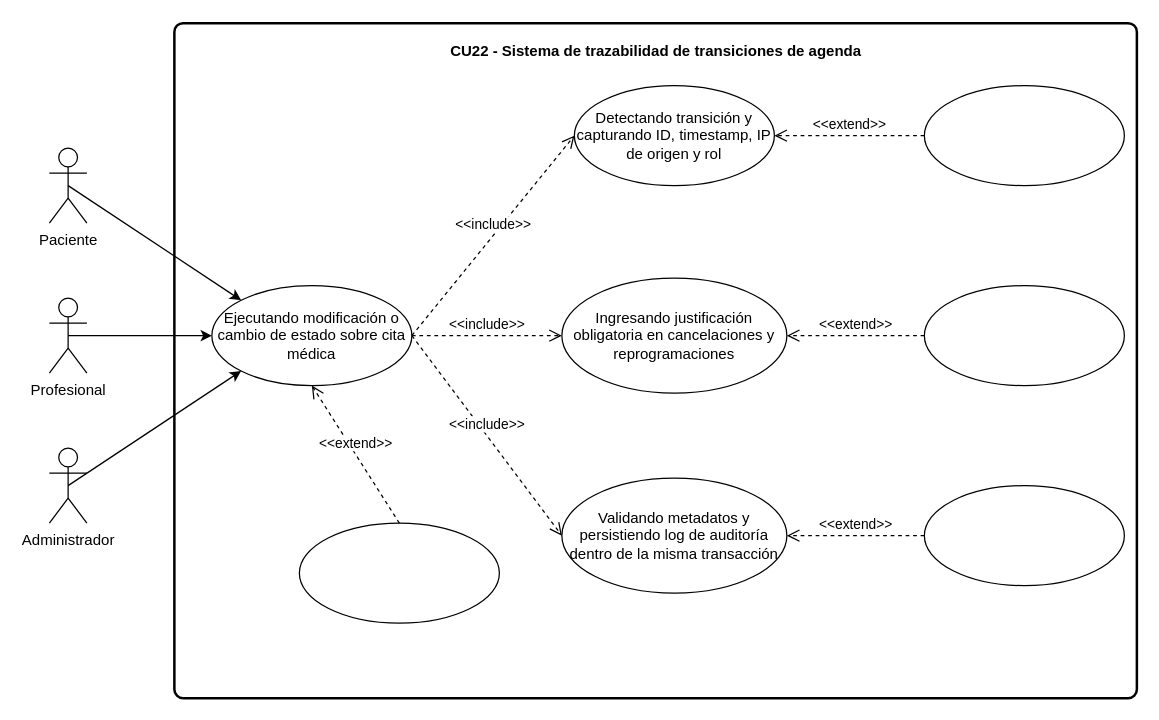
Some shapes in this 1159 by 720 pixel diagram are drawn without their labels. The centre of each missing label's shape, as x and y in pixels:
"Bloqueando edición por estado terminal" belongs at [1023,135].
"Impidiendo transición por justificación vacía" belongs at [1023,535].
"Lanzando advertencia por pérdida de sesión" belongs at [1023,335].
"Revirtiendo operación por fallo de auditoría" belongs at [398,572].
